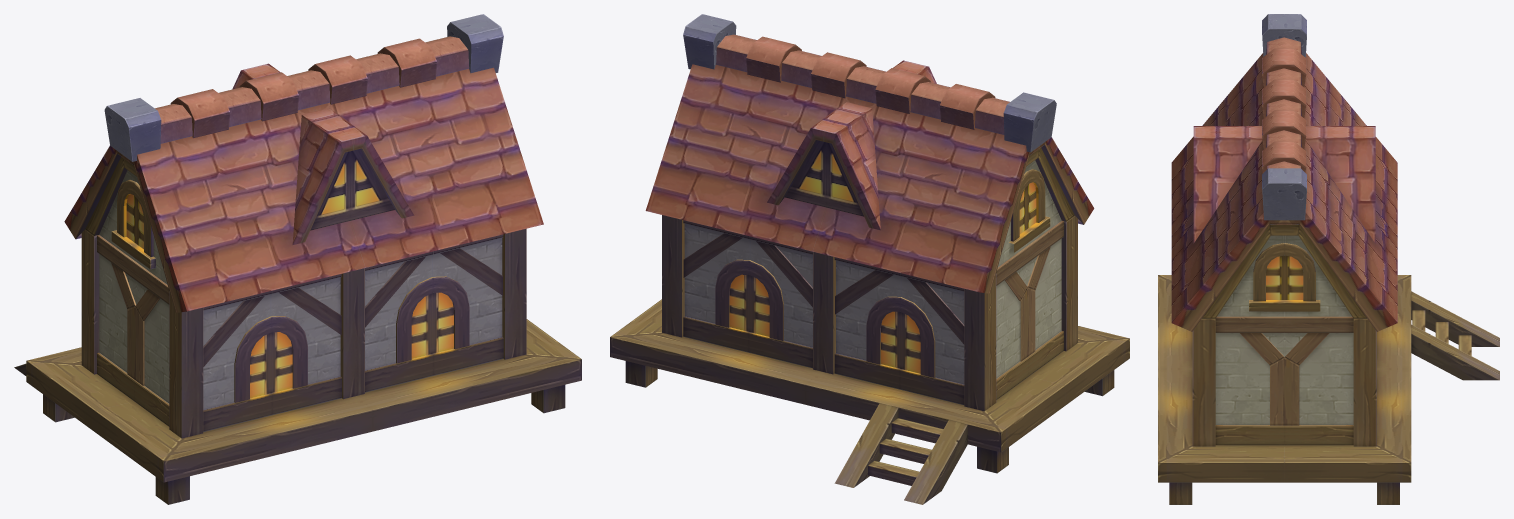
The model's file is scenes_town_house02a.FBX.
3 views of the same model, side by side, from view 1: azimuth 30°, elevation 25°; view 2: azimuth 150°, elevation 25°; view 3: azimuth 270°, elevation 25° (orthographic). The views are drawn at different scales.
Visible parts, largest first — view 1: scenes_town_house02a; view 2: scenes_town_house02a; view 3: scenes_town_house02a.
Boxes of the visible parts, x1,y1,x2,y2 form: scenes_town_house02a: [14, 14, 581, 504]; scenes_town_house02a: [610, 14, 1129, 504]; scenes_town_house02a: [1158, 14, 1499, 504].
Size of the model in its own units: 856 by 674 by 658.
